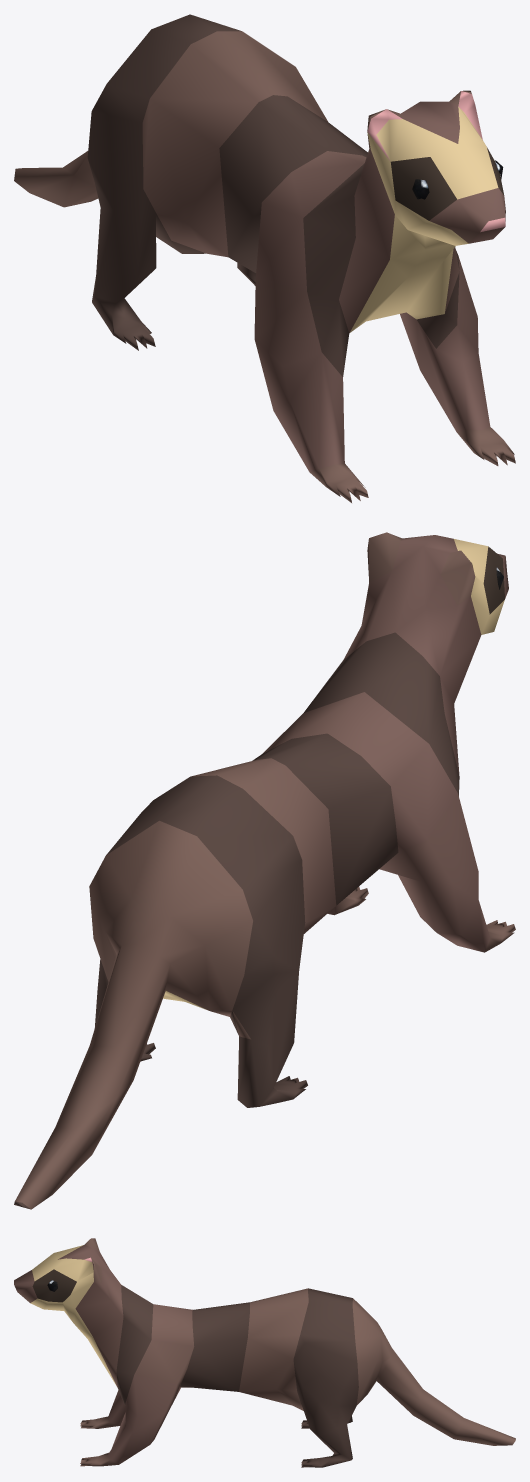
File: Ferret.glb
The picture shows the model from 3 angles, top to bottom: view 1: azimuth 30°, elevation 25°; view 2: azimuth 150°, elevation 25°; view 3: azimuth 270°, elevation 25°; orthographic projection. The views are drawn at different scales.
Parts seen in each view (by area): view 1: Ferret; view 2: Ferret; view 3: Ferret.
Boxes of the visible parts, <box> form: Ferret: <box>14,14,515,502</box>; Ferret: <box>14,532,515,1209</box>; Ferret: <box>14,1238,515,1467</box>.
Size of what is drawn, in the model's own units: 0.2928 by 0.5382 by 1.23.
1 material, 1 textured.
